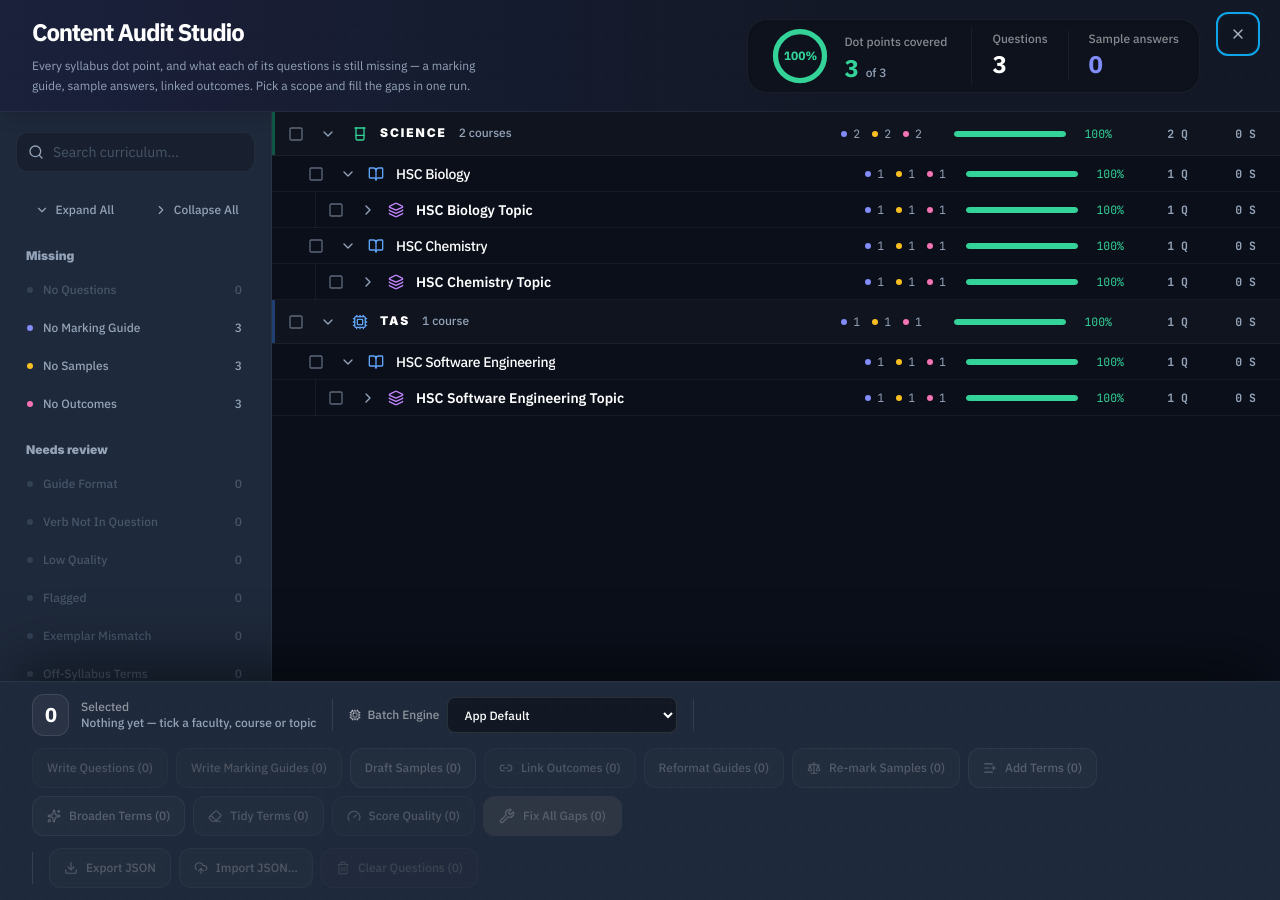
the studio — working a whole faculty › cannot export a faculty — that is a course or a topic
Click the button named "Select the whole Science faculty": (296, 134) [288,126,304,142]
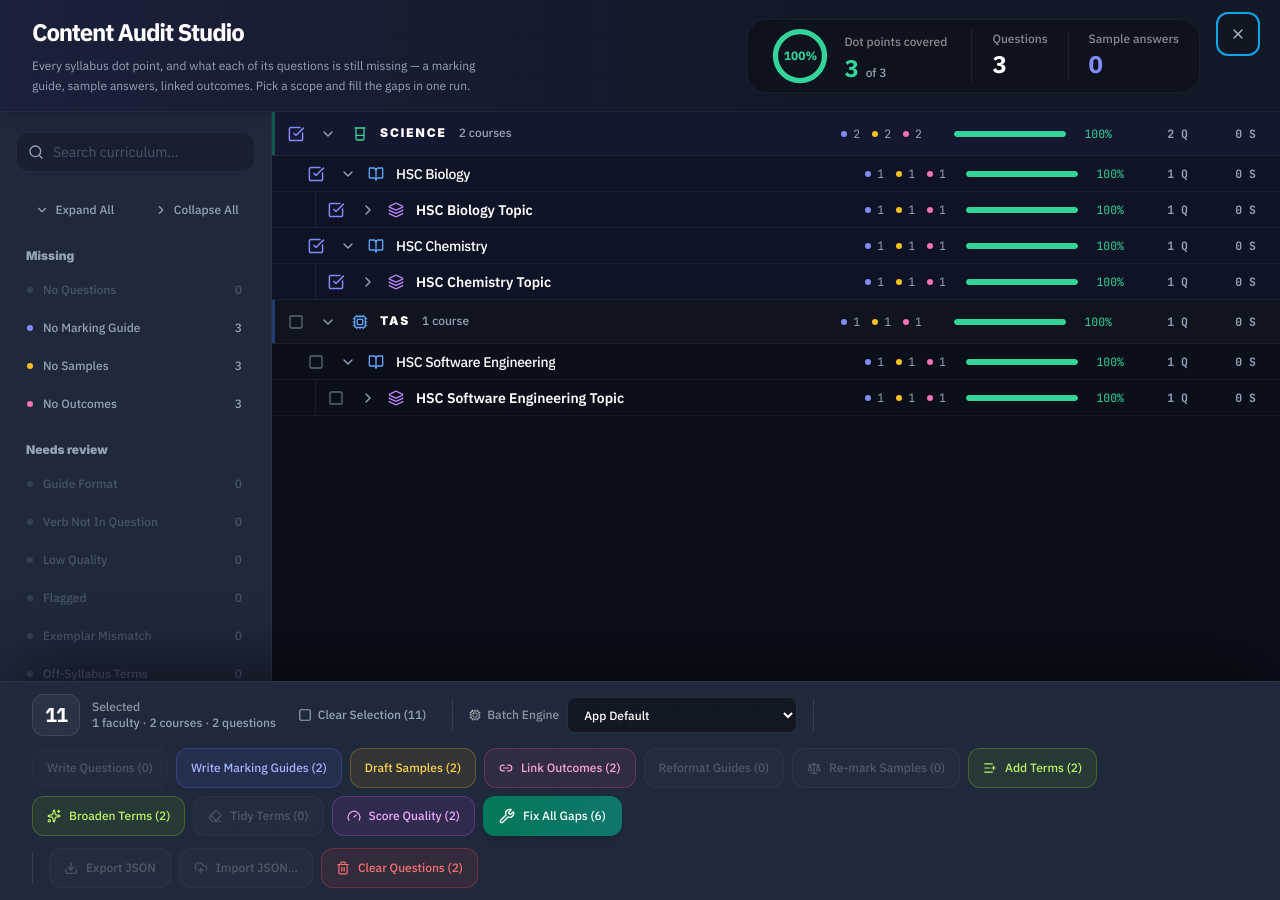
Check: the button "Export JSON" is disabled, box [49,848,171,888]
Note: Selecting one course underneath resolves an export target again.
Click the button named "Deselect the whole Science faculty": (296, 134) [287,125,305,142]
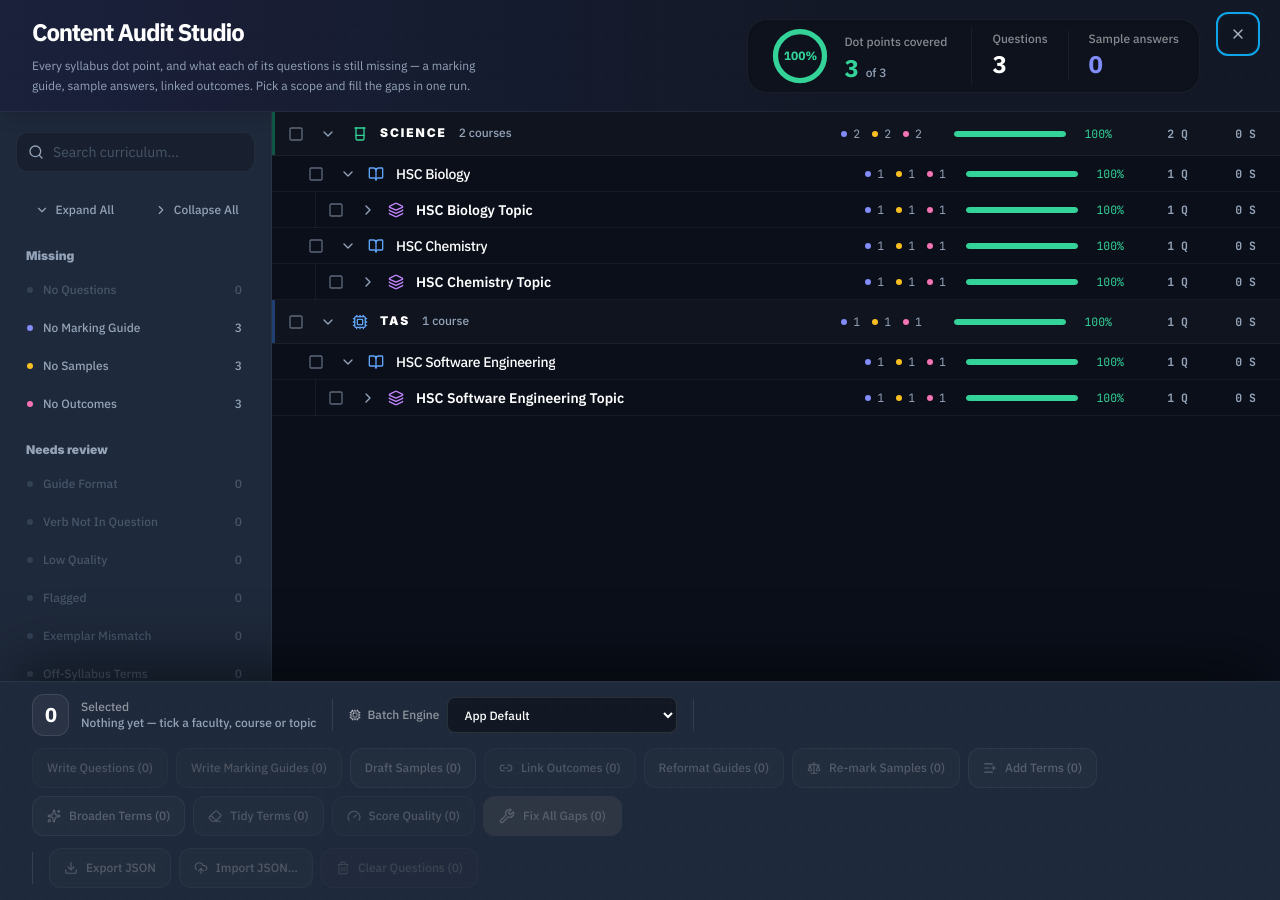
Click the button named "Select HSC Biology": (316, 174) [308,166,324,182]
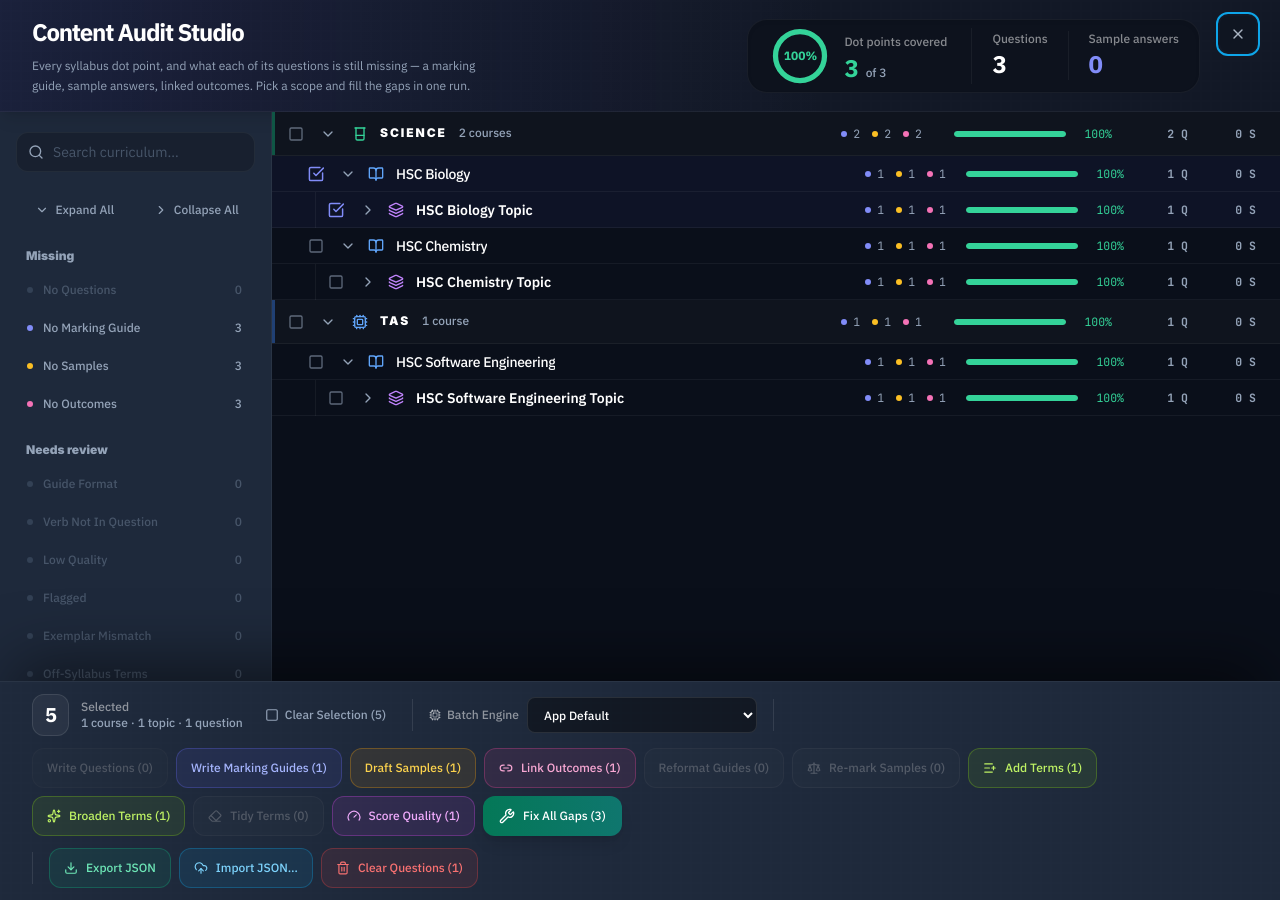
Check: the button "Export JSON" is enabled, box [49,848,171,888]
